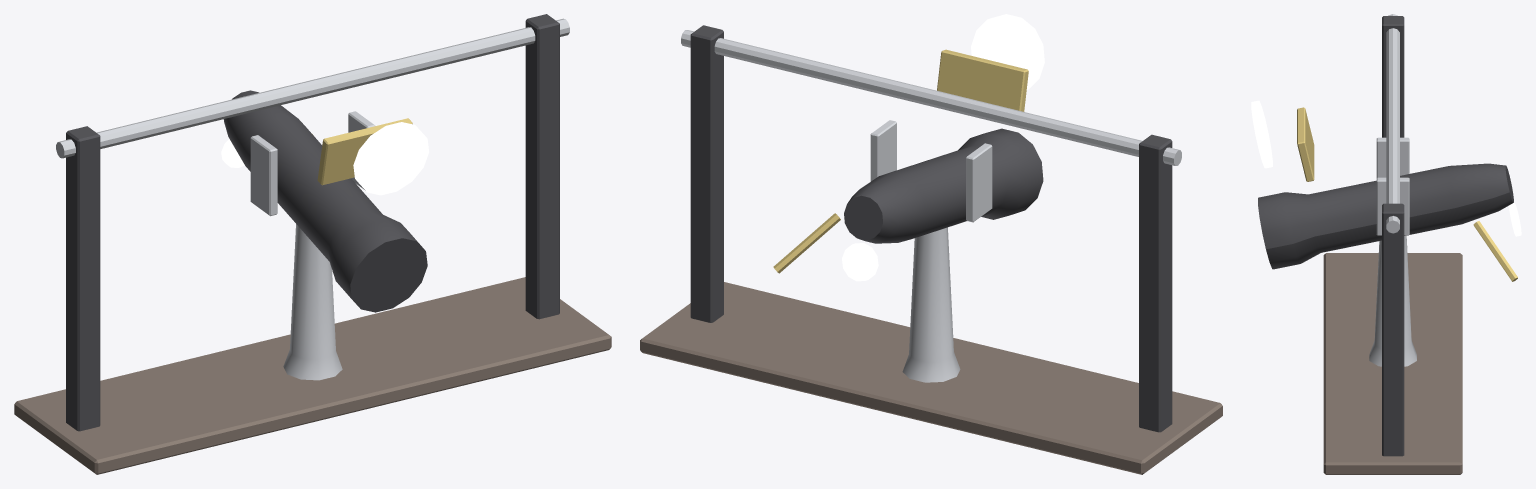
The model's file is theatre-stage-and-backstage-follow-spot-on-a-rail-f0bba477__35906.glb.
3 views of the same model, side by side, from view 1: azimuth 30°, elevation 25°; view 2: azimuth 150°, elevation 25°; view 3: azimuth 270°, elevation 25° (orthographic). The views are drawn at different scales.
Parts seen in each view (by area): view 1: follow-spot-on-a-rail, spot, spot/glow, spot/gilt; view 2: follow-spot-on-a-rail, spot, spot/gilt, spot/glow; view 3: follow-spot-on-a-rail, spot, spot/gilt, spot/glow.
Boxes of the visible parts, left/top/right/bottom form: follow-spot-on-a-rail: left=14, top=14, right=611, bottom=474; spot: left=223, top=90, right=427, bottom=312; spot/glow: left=221, top=122, right=428, bottom=195; spot/gilt: left=312, top=118, right=412, bottom=185; follow-spot-on-a-rail: left=640, top=25, right=1222, bottom=474; spot: left=844, top=128, right=1043, bottom=243; spot/gilt: left=773, top=49, right=1028, bottom=273; spot/glow: left=842, top=14, right=1044, bottom=281; follow-spot-on-a-rail: left=1323, top=14, right=1462, bottom=474; spot: left=1258, top=163, right=1513, bottom=269; spot/gilt: left=1297, top=107, right=1517, bottom=281; spot/glow: left=1251, top=100, right=1521, bottom=236.
Bounding box in the file's own units: 1.8 × 1.06 × 0.9741.
